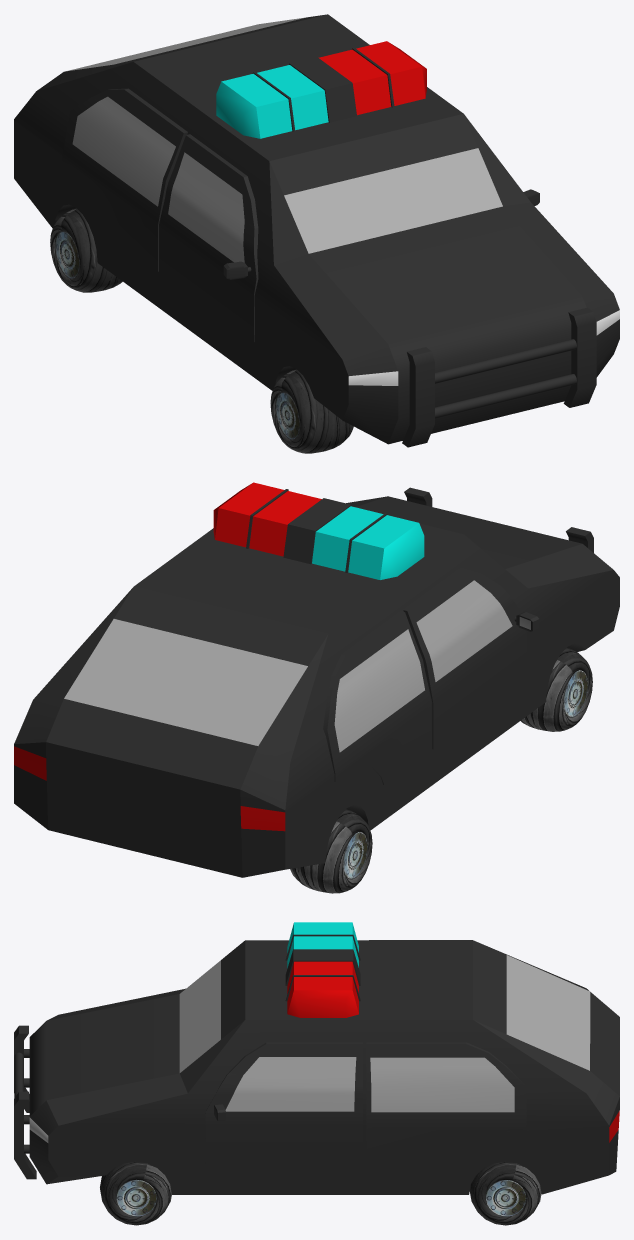
File: police car.fbx
The picture shows the model from 3 angles, top to bottom: view 1: azimuth 30°, elevation 25°; view 2: azimuth 150°, elevation 25°; view 3: azimuth 270°, elevation 25°; orthographic projection. The views are drawn at different scales.
Parts seen in each view (by area): view 1: car, siren, FrontWheelR, BackWheelR; view 2: car, siren, BackWheelR, FrontWheelR; view 3: car, siren, FrontWheelL, BackWheelL.
Boxes of the visible parts, box(x1,y1,x2,y2) form: car: box(14, 14, 619, 447); siren: box(216, 41, 426, 138); FrontWheelR: box(270, 369, 353, 453); BackWheelR: box(50, 208, 122, 292); car: box(14, 487, 619, 877); siren: box(213, 482, 424, 579); BackWheelR: box(290, 809, 372, 893); FrontWheelR: box(521, 647, 592, 731); car: box(14, 940, 619, 1194); siren: box(285, 922, 360, 1017); FrontWheelL: box(100, 1161, 171, 1225); BackWheelL: box(469, 1161, 541, 1225).
Size of the model in its own units: 12 by 9.73 by 23.99.
